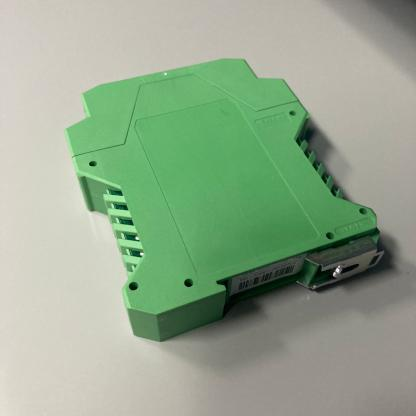SP0000011: (40, 47, 400, 357)
